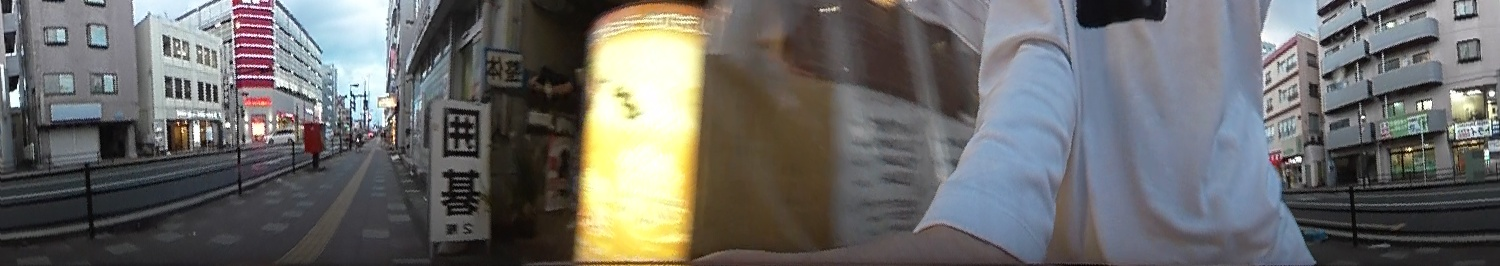difficult_person: (352, 120, 364, 148)
